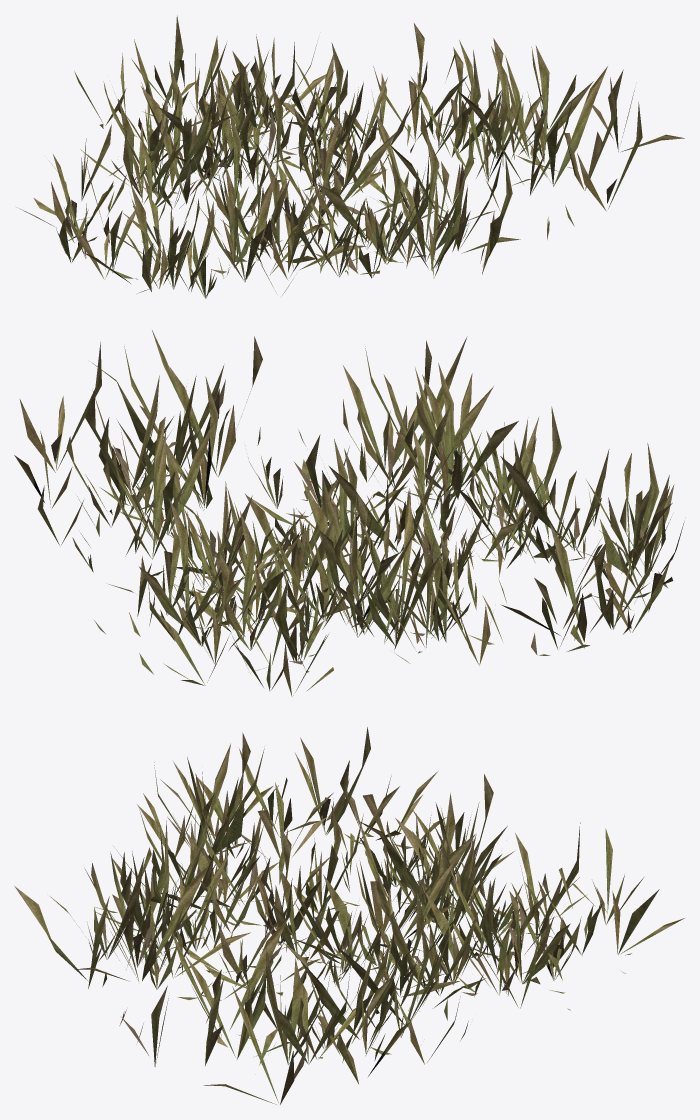
Rendered from dry.glb.
The picture shows the model from 3 angles, top to bottom: view 1: azimuth 30°, elevation 25°; view 2: azimuth 150°, elevation 25°; view 3: azimuth 270°, elevation 25°; orthographic projection. The views are drawn at different scales.
Visible parts, largest first — view 1: GS Dryland grass medium; view 2: GS Dryland grass medium; view 3: GS Dryland grass medium.
Boxes of the visible parts, bbox=[...] form: GS Dryland grass medium: bbox=[17, 15, 684, 298]; GS Dryland grass medium: bbox=[14, 330, 684, 696]; GS Dryland grass medium: bbox=[14, 727, 684, 1104].
Size of the model in its own units: 0.4965 by 0.0947 by 0.466.
Materials: 1 (1 with a texture image).
